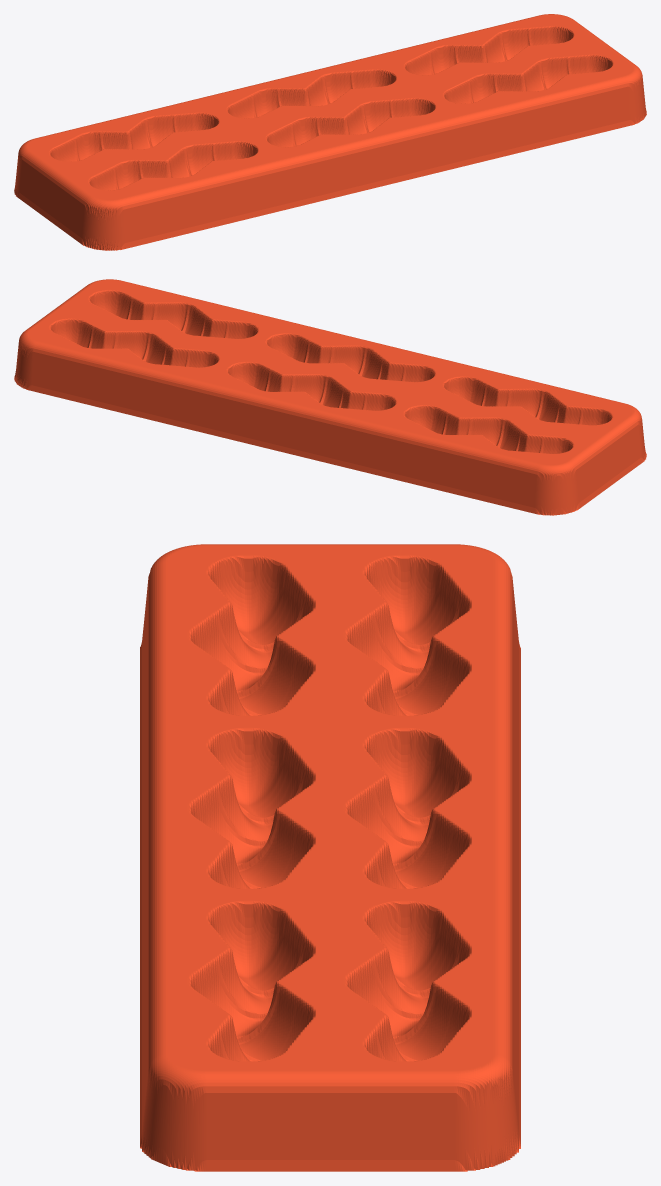
The model's file is mold.glb.
3 views of the same model, one above another, from view 1: azimuth 30°, elevation 25°; view 2: azimuth 150°, elevation 25°; view 3: azimuth 270°, elevation 25° (orthographic). The views are drawn at different scales.
Visible parts, largest first — view 1: geometry_0; view 2: geometry_0; view 3: geometry_0.
Boxes of the visible parts, box(x1,y1,x2,y2) form: geometry_0: box(14, 14, 646, 250); geometry_0: box(14, 279, 646, 515); geometry_0: box(140, 544, 520, 1171).
Bounding box in the file's own units: 0.177 × 0.0135 × 0.0521.
